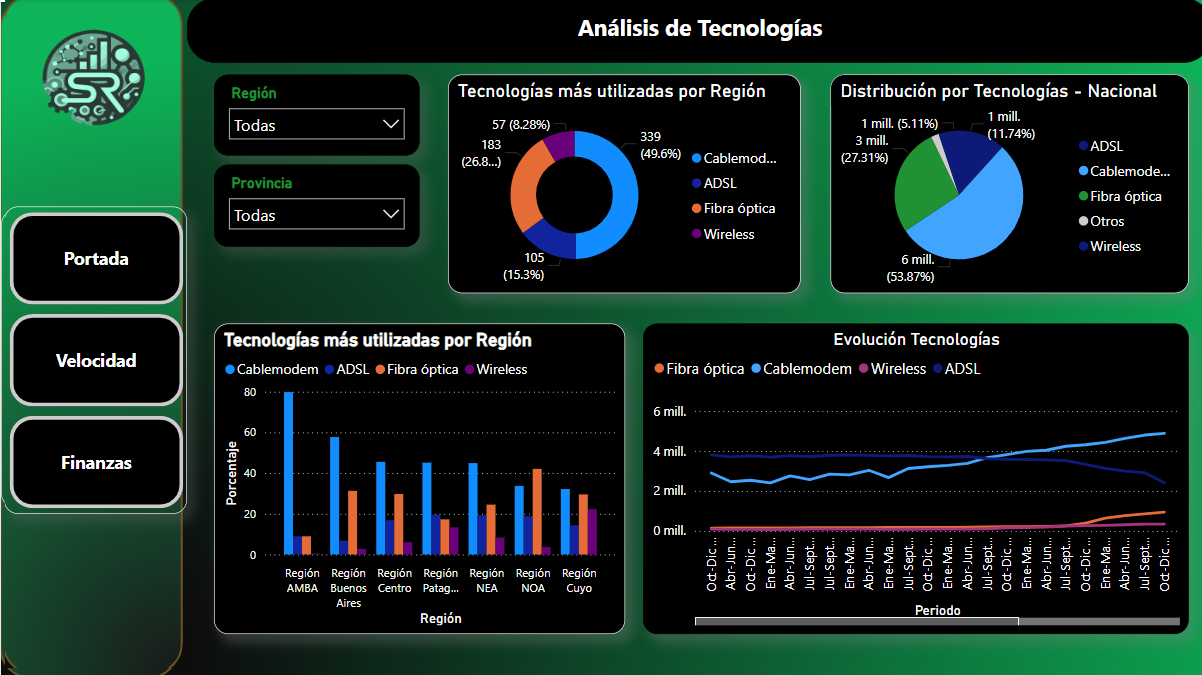

The dashboard page shown, as its layout file describes it:
{"tool":"powerbi","page":{"name":"Tecnologías","canvas":[1280,720],"ordinal":2},"visuals":[{"type":"lineChart","title":"Serie temporal de cada Tecnología - Nacional","fields":{"Category":["Internet_Accesos-por-tecnologia_nac__ok.Periodo"],"Y":["Sum(Internet_Accesos-por-tecnologia_nac__ok.Fibra óptica)","Sum(Internet_Accesos-por-tecnologia_nac__ok.Cablemodem)","Sum(Internet_Accesos-por-tecnologia_nac__ok.Wireless)","Sum(Internet_Accesos-por-tecnologia_nac__ok.ADSL)"]},"box":[27.4,105.6,615.6,327.7],"z":0},{"type":"textbox","box":[372.9,19.2,590.9,69.9],"z":1000},{"type":"pieChart","title":"Distribución por Tecnologías - Nacional","fields":{"Y":["Sum(tech_presente.ADSL)","Sum(tech_presente.Cablemodem)","Sum(tech_presente.Fibra óptica)","Sum(tech_presente.Otros)","Sum(tech_presente.Wireless)"]},"box":[127.5,448.3,414.1,244],"z":2000},{"type":"clusteredColumnChart","title":"Tecnologías más utilizadas por Región","fields":{"Category":["tech_region_presente.Región"],"Y":["Sum(tech_region_presente.Cablemodem)","Sum(tech_region_presente.ADSL)","Sum(tech_region_presente.Fibra óptica)","Sum(tech_region_presente.Wireless)"]},"box":[686.9,105.6,552.5,327.7],"z":3000},{"type":"slicer","fields":{"Values":["acceso_por_region.Región"]},"box":[595,501.8,259.1,119.3],"z":4000},{"type":"donutChart","title":"Tecnologías más utilizadas por Región","fields":{"Y":["Sum(tech_region_presente.Cablemodem)","Sum(tech_region_presente.ADSL)","Sum(tech_region_presente.Fibra óptica)","Sum(tech_region_presente.Wireless)"]},"box":[893.9,467.5,345.5,207],"z":5000},{"type":"actionButton","box":[0,0,100,40],"z":6000}]}

Visuals, with their boxes in screenshot pixels (x1, y1, x2, y2), scaled from the page's 1280x720 canvas onto the 1202x675 screenshot:
"Serie temporal de cada Tecnología - Nacional" lineChart: box(26, 99, 604, 406)
textbox: box(350, 18, 905, 84)
"Distribución por Tecnologías - Nacional" pieChart: box(120, 420, 509, 649)
"Tecnologías más utilizadas por Región" clusteredColumnChart: box(645, 99, 1164, 406)
slicer - acceso_por_region.Región: box(559, 470, 802, 582)
"Tecnologías más utilizadas por Región" donutChart: box(839, 438, 1164, 632)
actionButton: box(0, 0, 94, 38)
